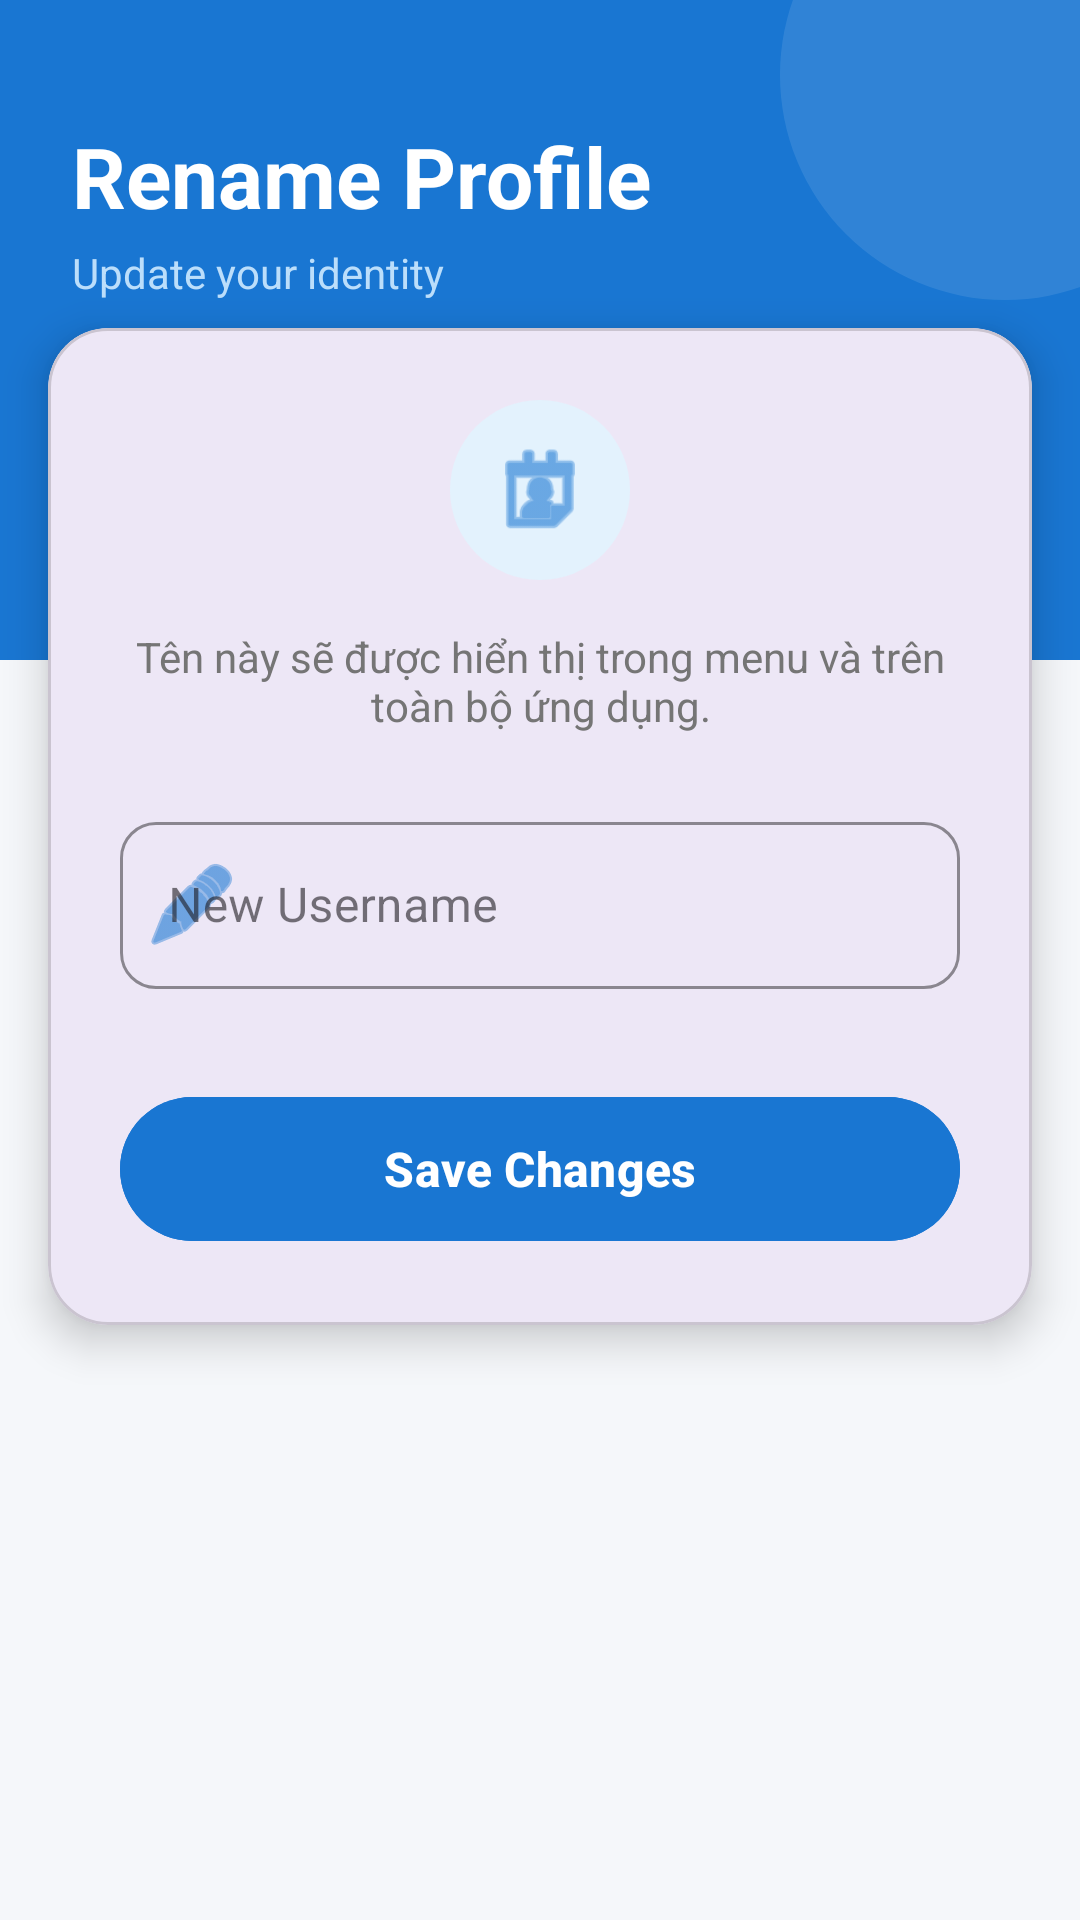

Icon bounding boxes for this 1080x1920 phone screenshot, format (x1, y1, x2, y2):
calendar: (505, 449, 575, 529)
